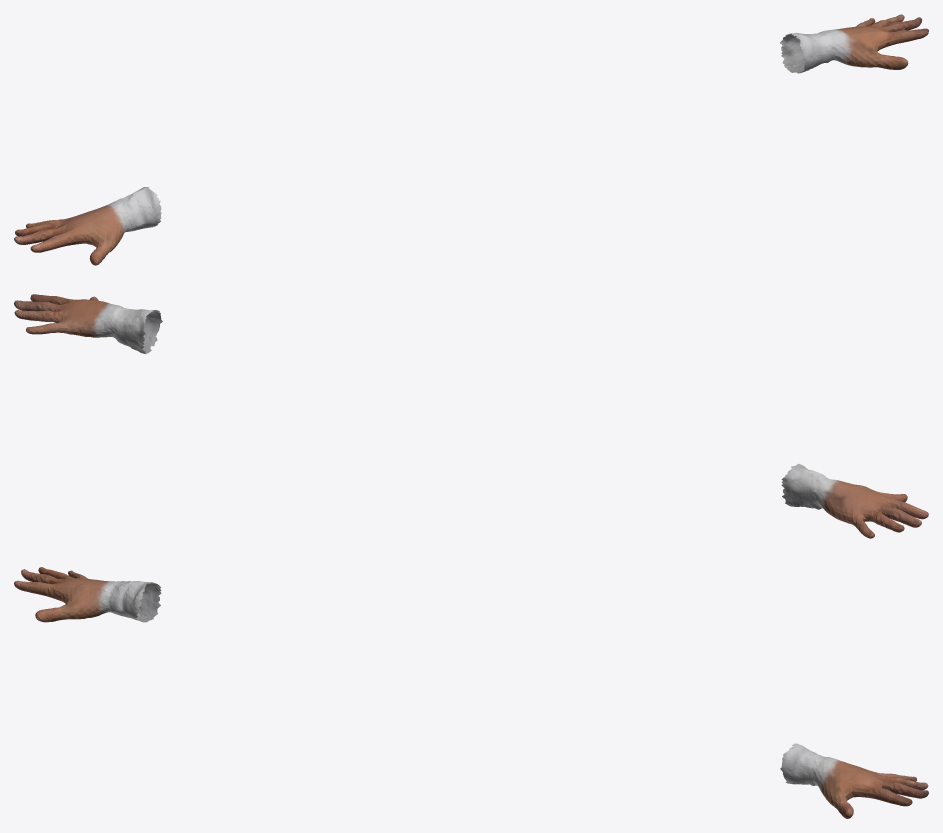
The model's file is animation_lowres.obj.
The picture shows the model from 3 angles, top to bottom: view 1: azimuth 30°, elevation 25°; view 2: azimuth 150°, elevation 25°; view 3: azimuth 330°, elevation 25°; orthographic projection.
Size of the model in its own units: 1.77 by 0.0783 by 0.1763.
